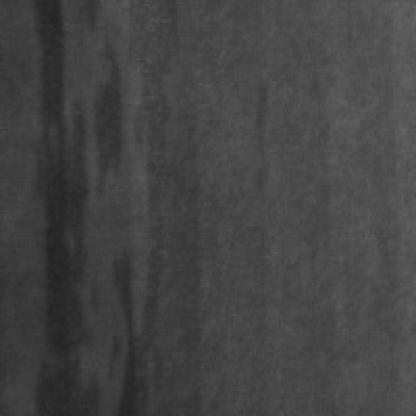inclusion: (29, 6, 127, 416), (102, 248, 150, 416), (241, 80, 277, 198)
